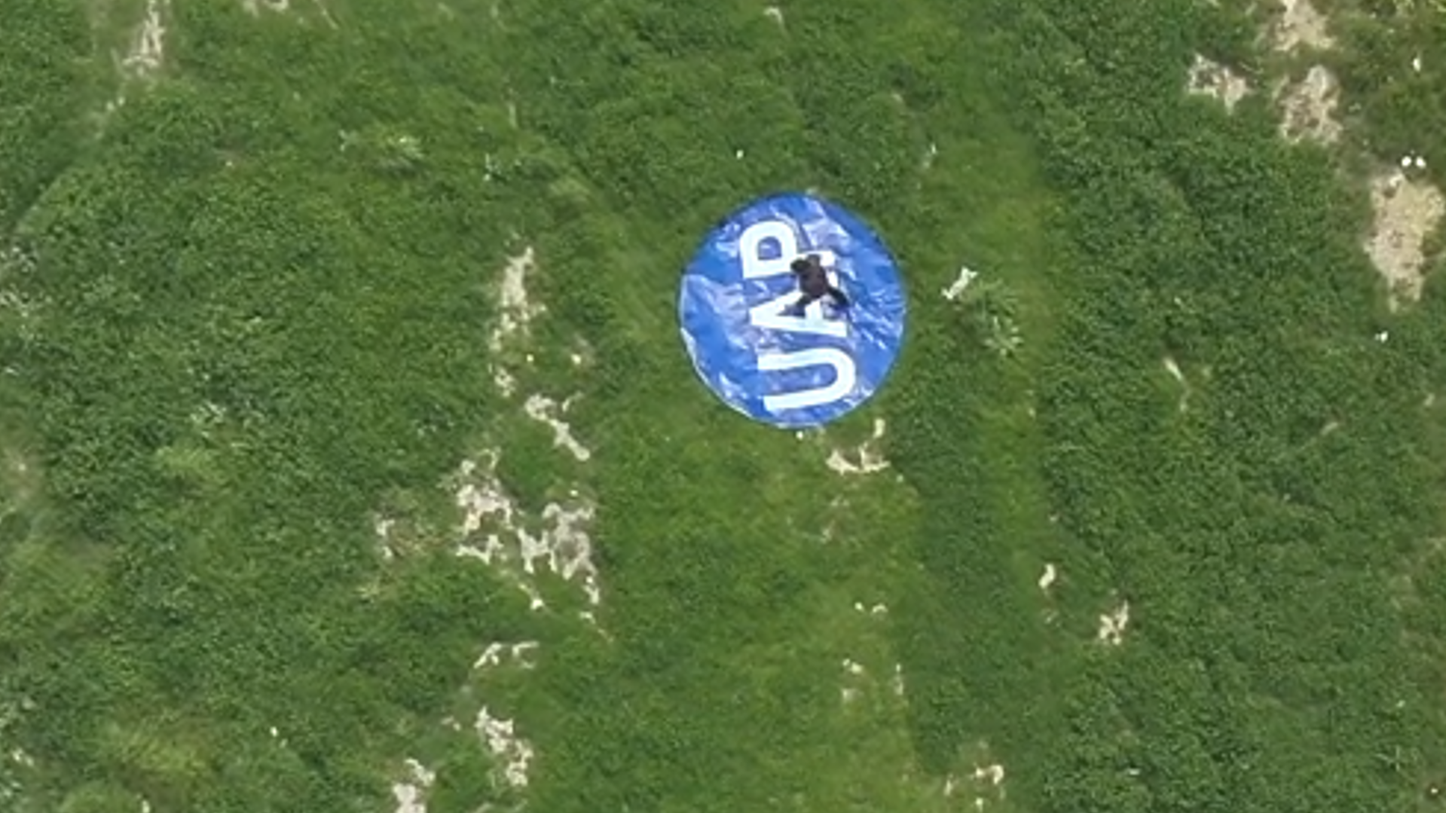UAP: (675, 195, 909, 428)
person: (787, 251, 854, 318)
